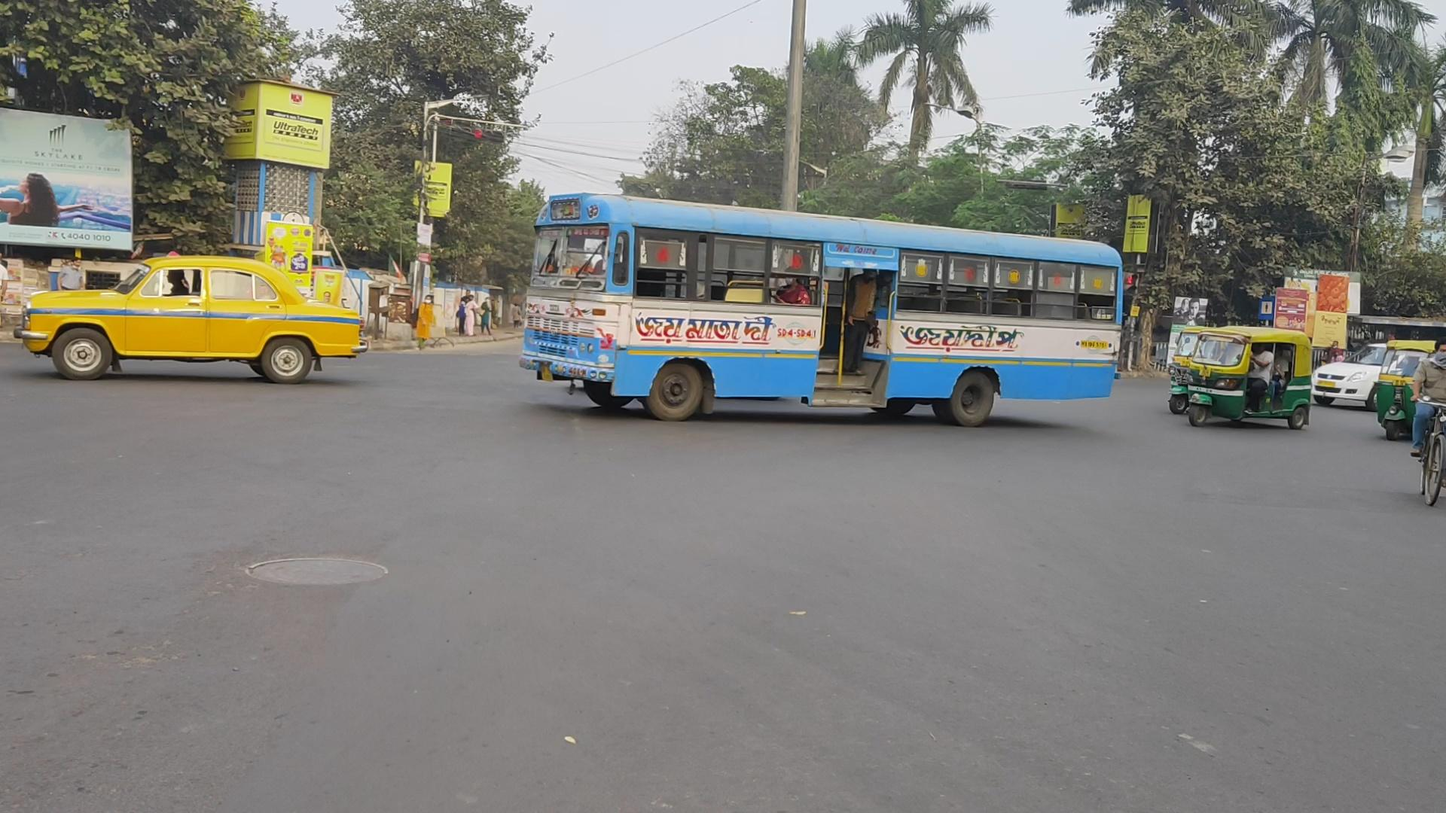Auto: (1187, 327, 1312, 431), (1377, 339, 1446, 443)
Bus: (520, 192, 1122, 428)
bike: (1411, 340, 1446, 506)
car: (14, 251, 368, 382), (1309, 338, 1445, 413)
